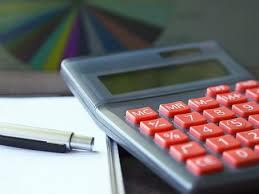Calculator: (58, 34, 259, 194)
